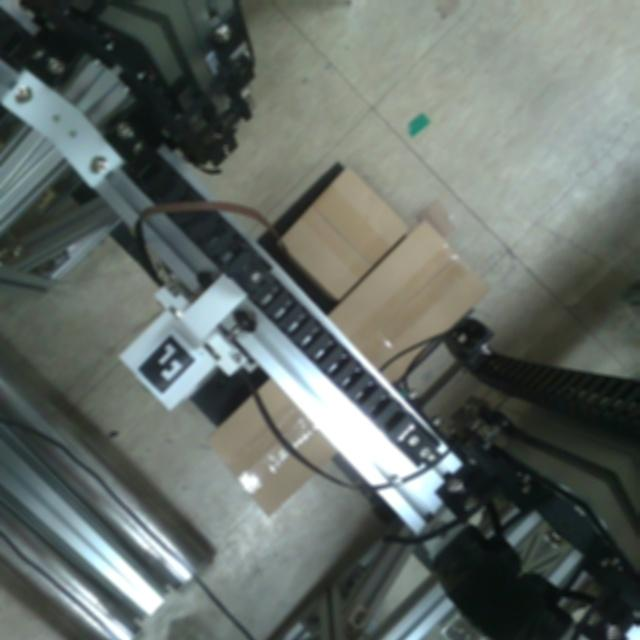box: (271, 157, 418, 306)
